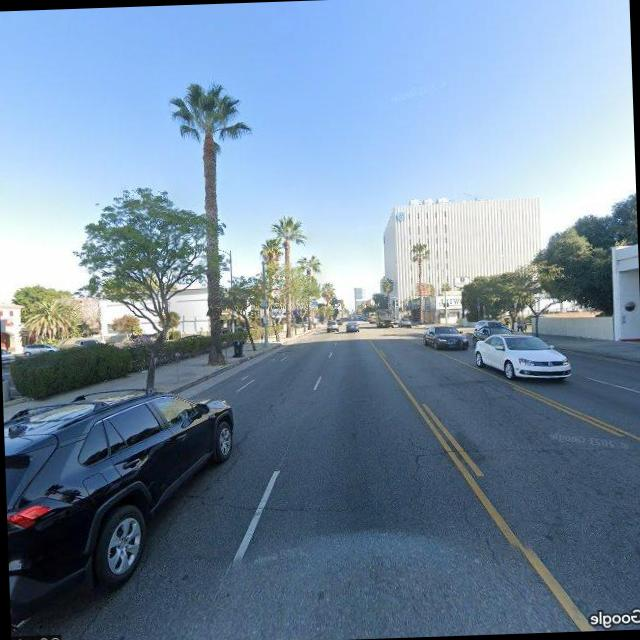crack: (461, 508, 530, 605), (416, 436, 628, 464), (195, 492, 320, 518), (403, 423, 433, 494)
